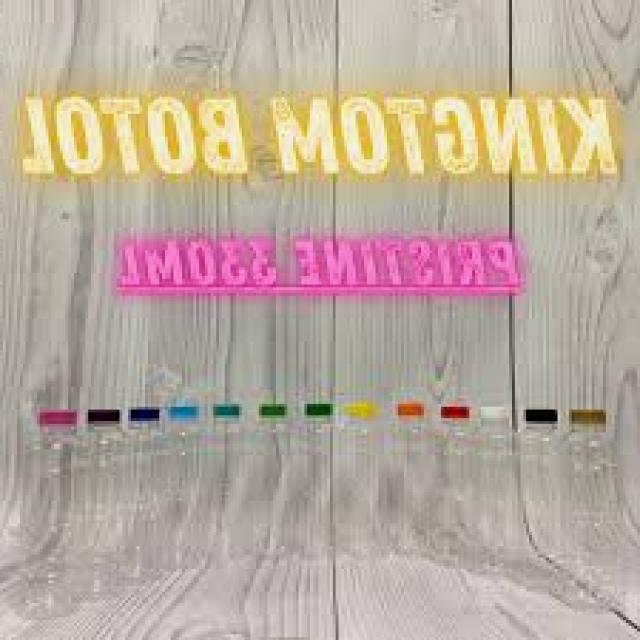bottle: (16, 402, 88, 616), (143, 392, 215, 599), (561, 403, 630, 618), (506, 402, 578, 608), (463, 395, 533, 606), (233, 395, 314, 575), (424, 388, 490, 589), (66, 403, 131, 604), (196, 393, 264, 581), (322, 390, 391, 575), (111, 405, 173, 589), (285, 395, 347, 577), (378, 398, 440, 577)
